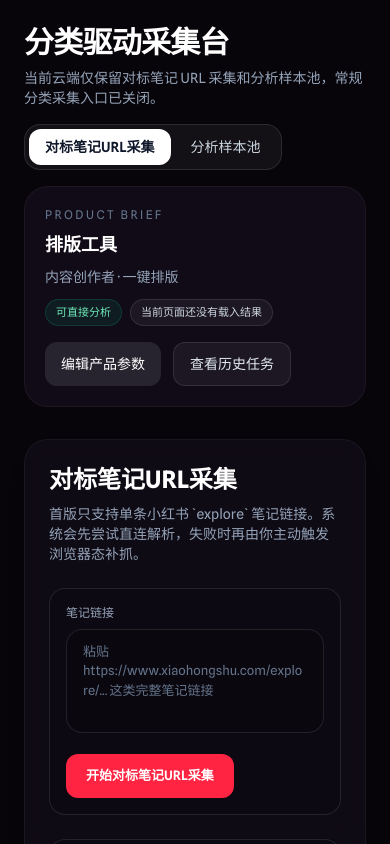
ScraperView history persistence flow › keeps product brief and history sections independently scrollable on desktop layout
Click the button "编辑产品参数" at (103, 364), box top-left (45, 342), bottom-right (161, 386)
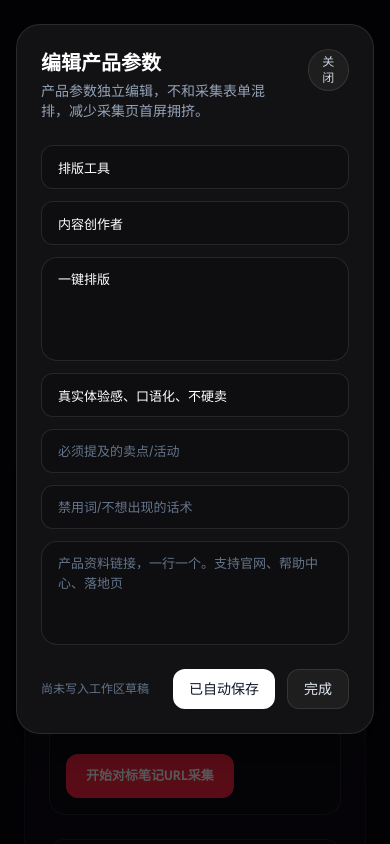
Expected: the heading "编辑产品参数" is shown, top-left (41, 51), bottom-right (161, 75)
Expected: the button "完成" is shown, top-left (287, 669), bottom-right (349, 709)
